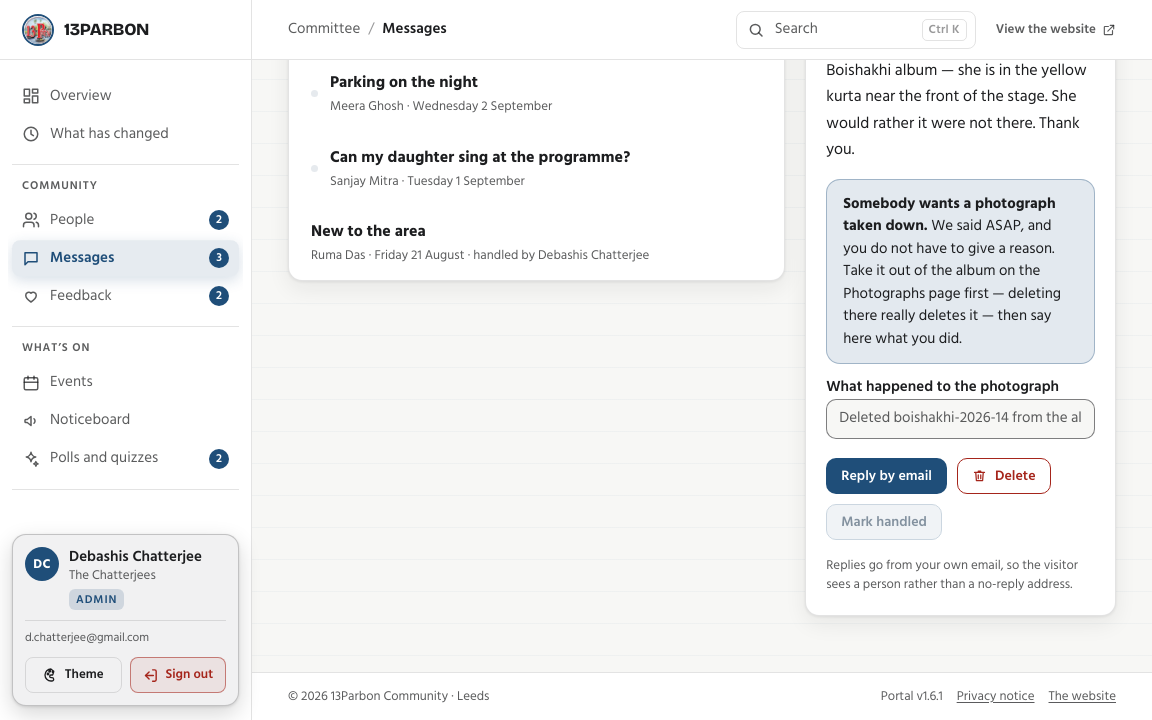
Test case: deleting a message › takes it off the list once confirmed
The width and height of the screenshot is (1152, 720).
(page scrolled)
Step 1. Click the button "Delete" → click(1004, 476), box [957,458,1051,494]
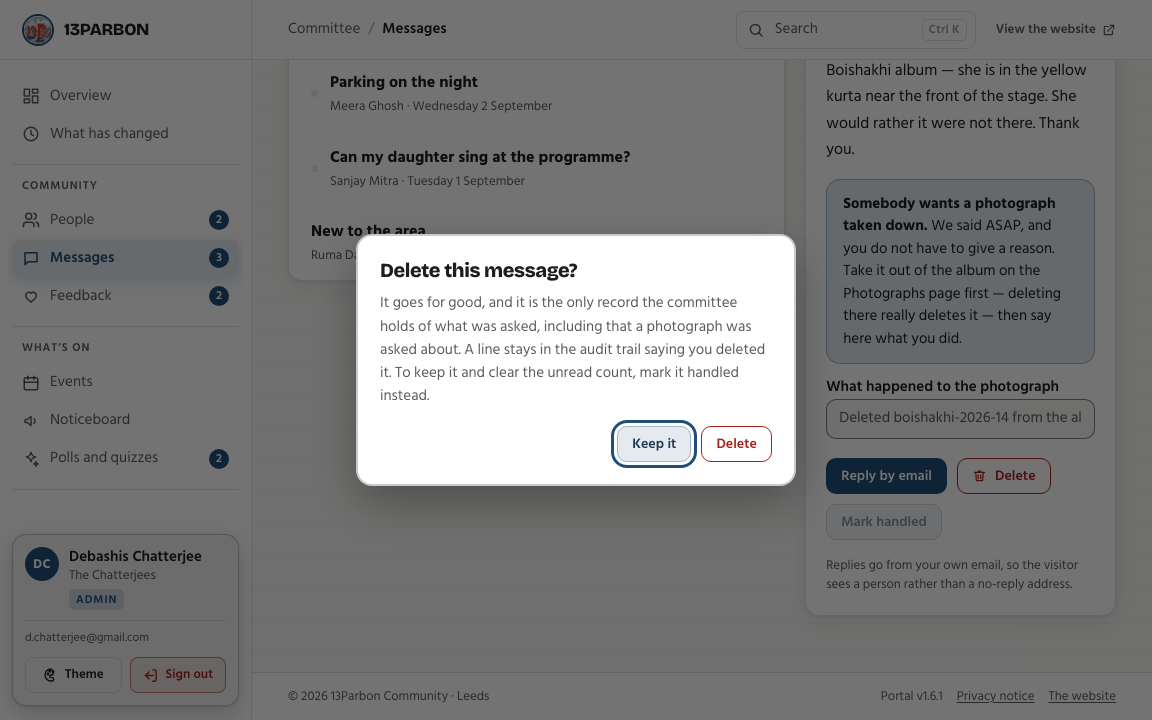
Step 2. Click the button "Delete" → click(737, 444), box [701,426,772,462]
(page scrolled)
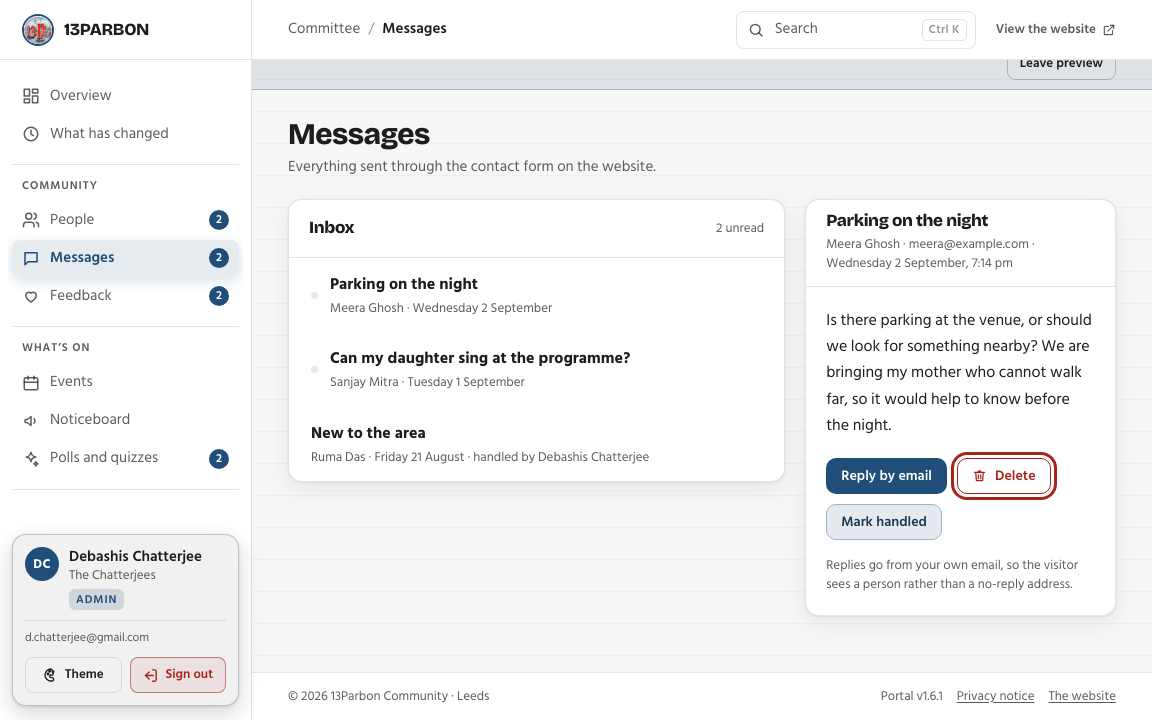
Expected: the number of list items is 3, [289,258,784,332]; [289,332,784,407]; [289,407,784,481]
